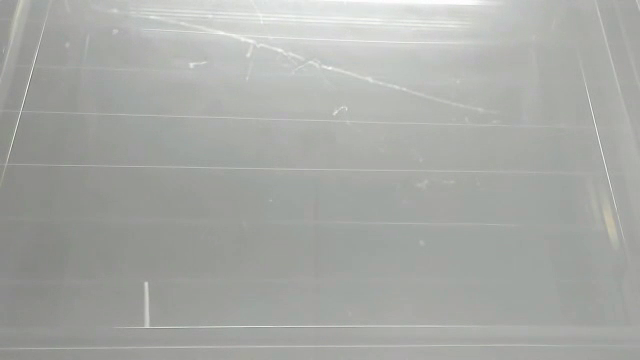alpha: (138, 277, 157, 334)
